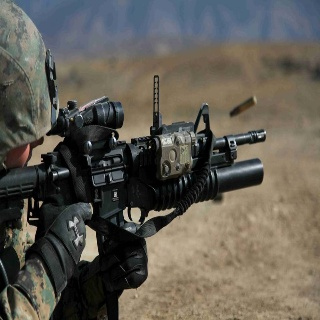rifle: (4, 72, 268, 254)
